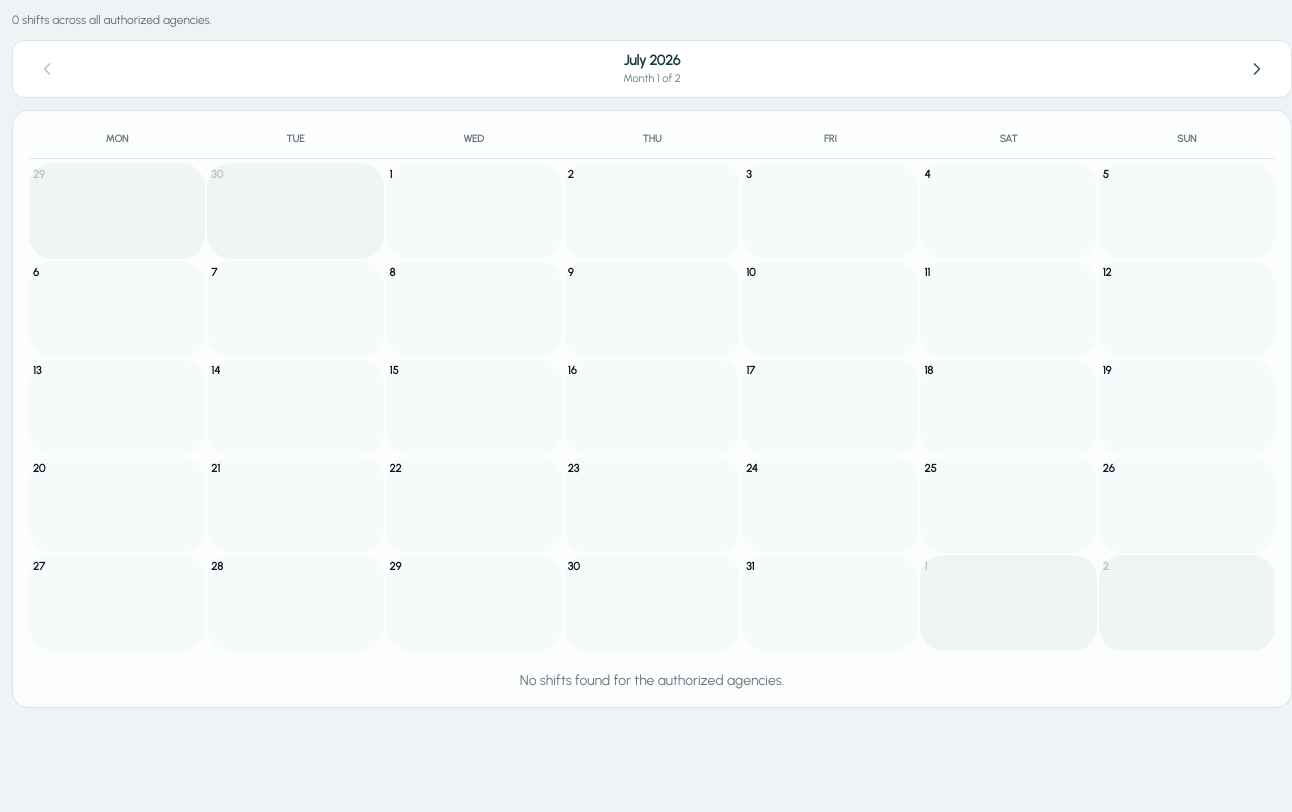
Test case: SuperAdminShiftsCalendar › shows one month at a time and navigates within the selected range
Expected: the number of tables is 1, [29,163,1275,651]
Expected: the button named "Previous calendar month" is disabled, [25,47,69,91]
What coordinates should you click on to do the following:
click the button named "Next calendar month"
I would click on:
 (1257, 69)
Its box is [1235,47,1279,91].
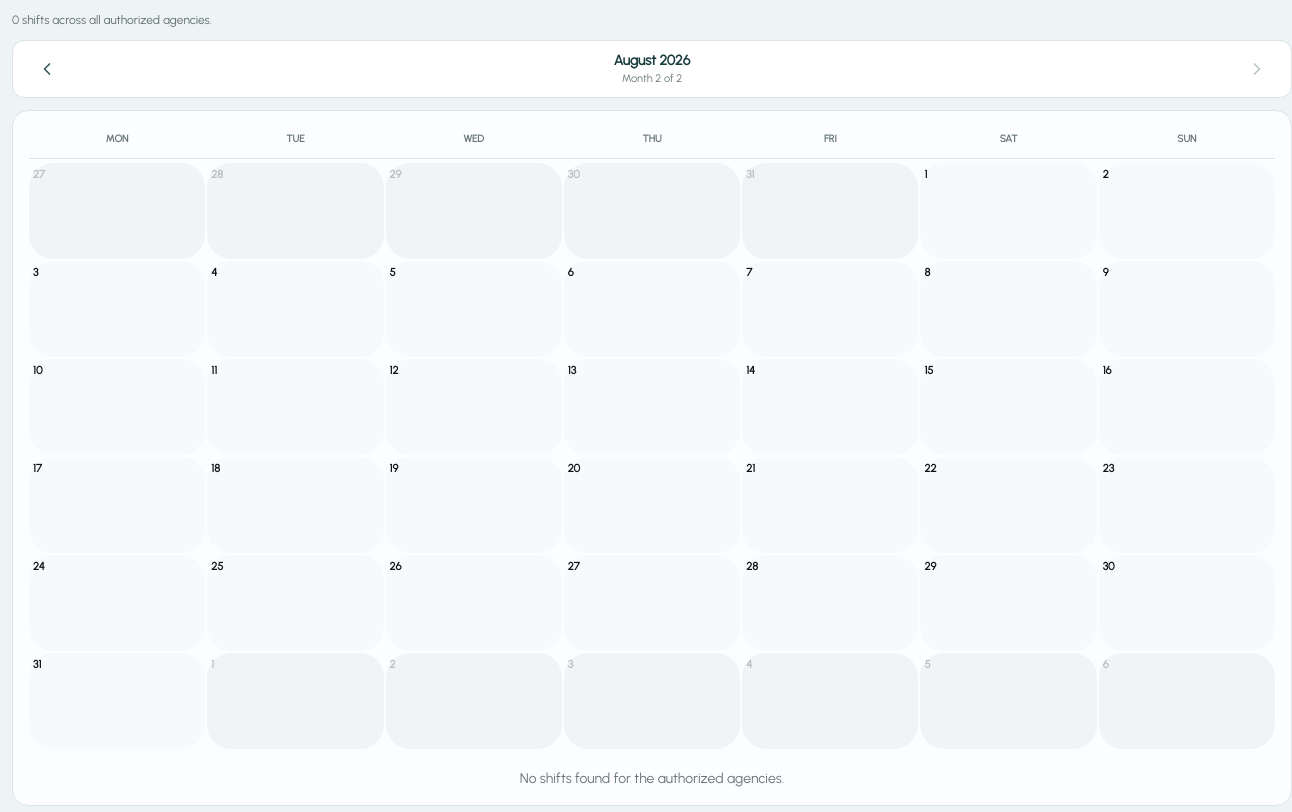
Now the table named "Shifts for August 2026" is shown
